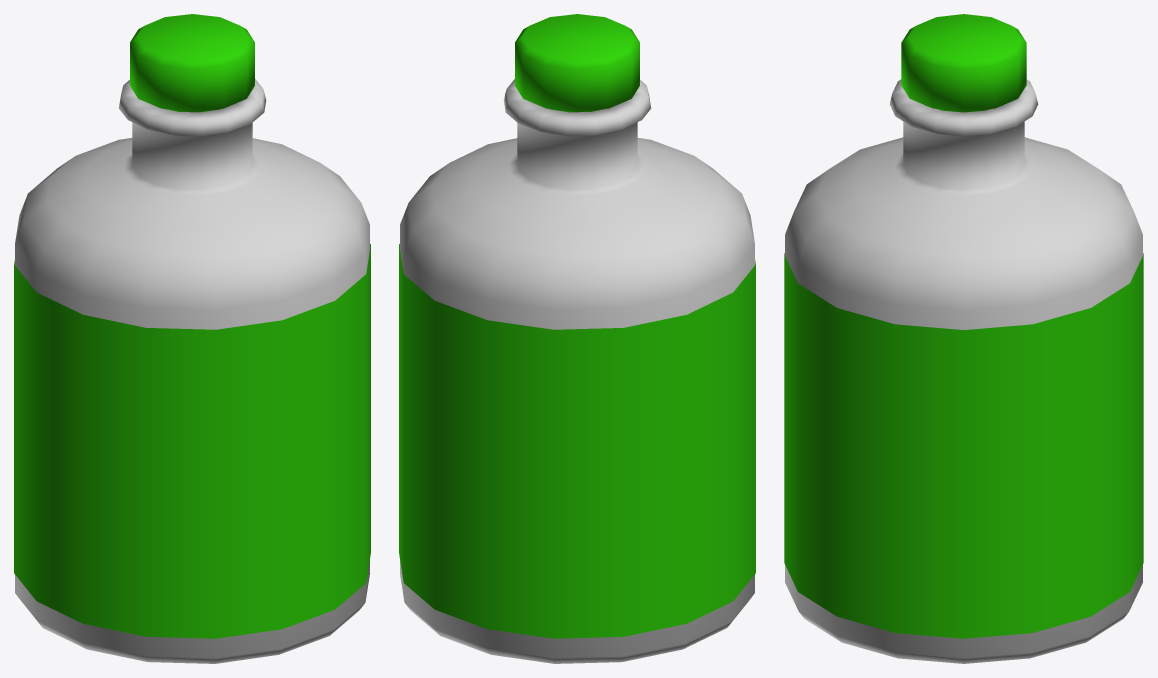
File: BHP_MOD_E_BOT_Absinthe.fbx
3 renders of one model, left to right at view 1: azimuth 30°, elevation 25°; view 2: azimuth 150°, elevation 25°; view 3: azimuth 270°, elevation 25°, orthographic.
Visible parts, largest first — view 1: BHP_MOD_E_BOT_Absinthe; view 2: BHP_MOD_E_BOT_Absinthe; view 3: BHP_MOD_E_BOT_Absinthe.
Part boxes in pixels (box(x1,y1,x2,y2)): BHP_MOD_E_BOT_Absinthe: box(14, 14, 370, 663); BHP_MOD_E_BOT_Absinthe: box(399, 14, 755, 663); BHP_MOD_E_BOT_Absinthe: box(784, 14, 1143, 663).
Bounding box in the file's own units: 0.163 × 0.2771 × 0.163.
